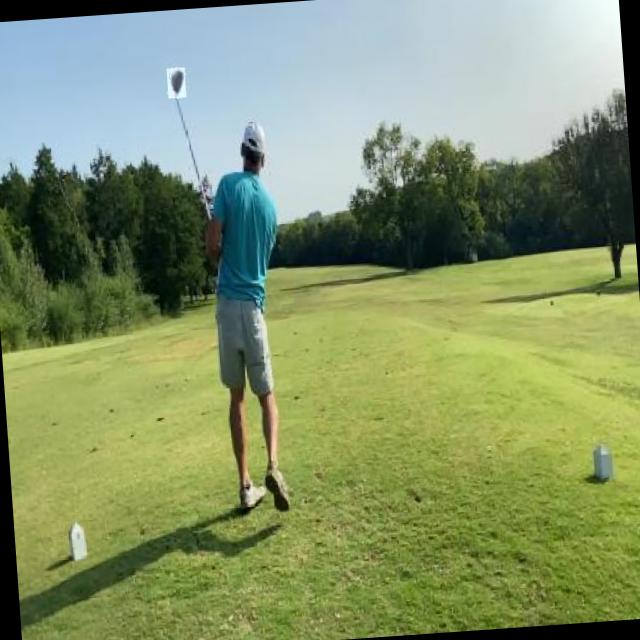club head: (166, 67, 186, 98)
